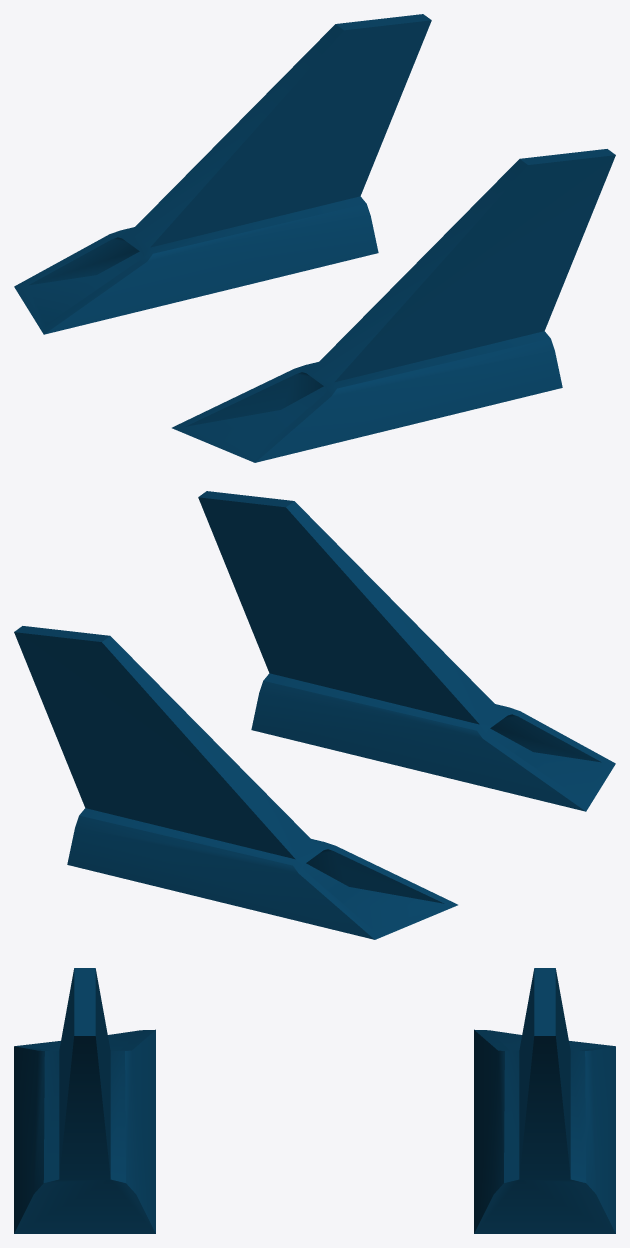
The model's file is SSv1_SWings_v3.FBX.
3 views of the same model, one above another, from view 1: azimuth 30°, elevation 25°; view 2: azimuth 150°, elevation 25°; view 3: azimuth 270°, elevation 25° (orthographic). The views are drawn at different scales.
Visible parts, largest first — view 1: SSv1_SWings_v3; view 2: SSv1_SWings_v3; view 3: SSv1_SWings_v3.
Boxes of the visible parts, x1,y1,x2,y2 form: SSv1_SWings_v3: (14, 14, 615, 462); SSv1_SWings_v3: (14, 491, 615, 939); SSv1_SWings_v3: (14, 968, 615, 1233).
Size of the model in its own units: 15.69 by 7.56 by 15.89.
